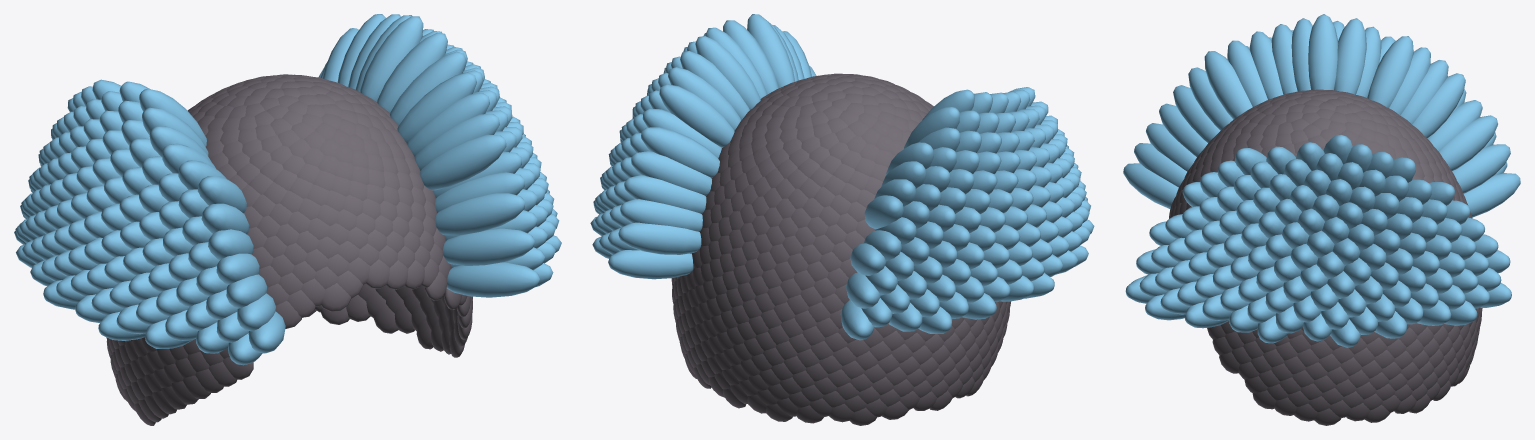
File: twins.glb
The picture shows the model from 3 angles, left to right: view 1: azimuth 30°, elevation 25°; view 2: azimuth 150°, elevation 25°; view 3: azimuth 270°, elevation 25°; orthographic projection. The views are drawn at different scales.
Parts seen in each view (by area): view 1: Hair_0270, Hair_0481, Hair_0558, Hair_0393, Hair_0129, Hair_0168, Hair_0142, Hair_0155, Hair_0202, Hair_0236, Hair_0359, Hair_0230 (+54 smaller); view 2: Hair_0192, Hair_0486, Hair_0268, Hair_0563, Hair_0323, Hair_0378, Hair_0433, Hair_0129, Hair_0168, Hair_0150, Hair_0171, Hair_0155 (+45 smaller); view 3: Hair_0125, Hair_0185, Hair_0138, Hair_0230, Hair_0410, Hair_0287, Hair_0497, Hair_0572, Hair_0209, Hair_0549, Hair_0188, Hair_0285 (+132 smaller).
Part boxes in pixels (x1,y1,x2,y2): Hair_0270: (420,134,506,190); Hair_0481: (443,228,534,265); Hair_0558: (446,262,539,297); Hair_0393: (435,193,524,235); Hair_0129: (360,16,423,101); Hair_0168: (397,72,476,142); Hair_0142: (377,32,447,113); Hair_0155: (390,51,466,124); Hair_0202: (407,93,489,156); Hair_0236: (414,114,499,170); Hair_0359: (435,172,524,212); Hair_0230: (197,176,246,213); Hair_0192: (659,84,734,147); Hair_0486: (618,222,701,254); Hair_0268: (641,127,719,178); Hair_0563: (608,250,693,279); Hair_0323: (631,151,711,196); Hair_0378: (624,175,706,213); Hair_0433: (620,199,702,231); Hair_0129: (695,36,760,109); Hair_0168: (747,14,794,87); Hair_0150: (680,51,749,120); Hair_0171: (668,67,740,131); Hair_0155: (723,20,778,94); Hair_0125: (1308,14,1338,90); Hair_0185: (1367,36,1413,107); Hair_0138: (1334,18,1366,94); Hair_0230: (1204,51,1252,119); Hair_0410: (1439,115,1497,170); Hair_0287: (1412,73,1465,138); Hair_0497: (1452,144,1510,193); Hair_0572: (1463,173,1520,217); Hair_0209: (1227,40,1267,106); Hair_0549: (1123,163,1178,208); Hair_0188: (1249,31,1283,99); Hair_0285: (1188,67,1233,130).
Size of the model in its own units: 2.5 by 1.68 by 2.05.
